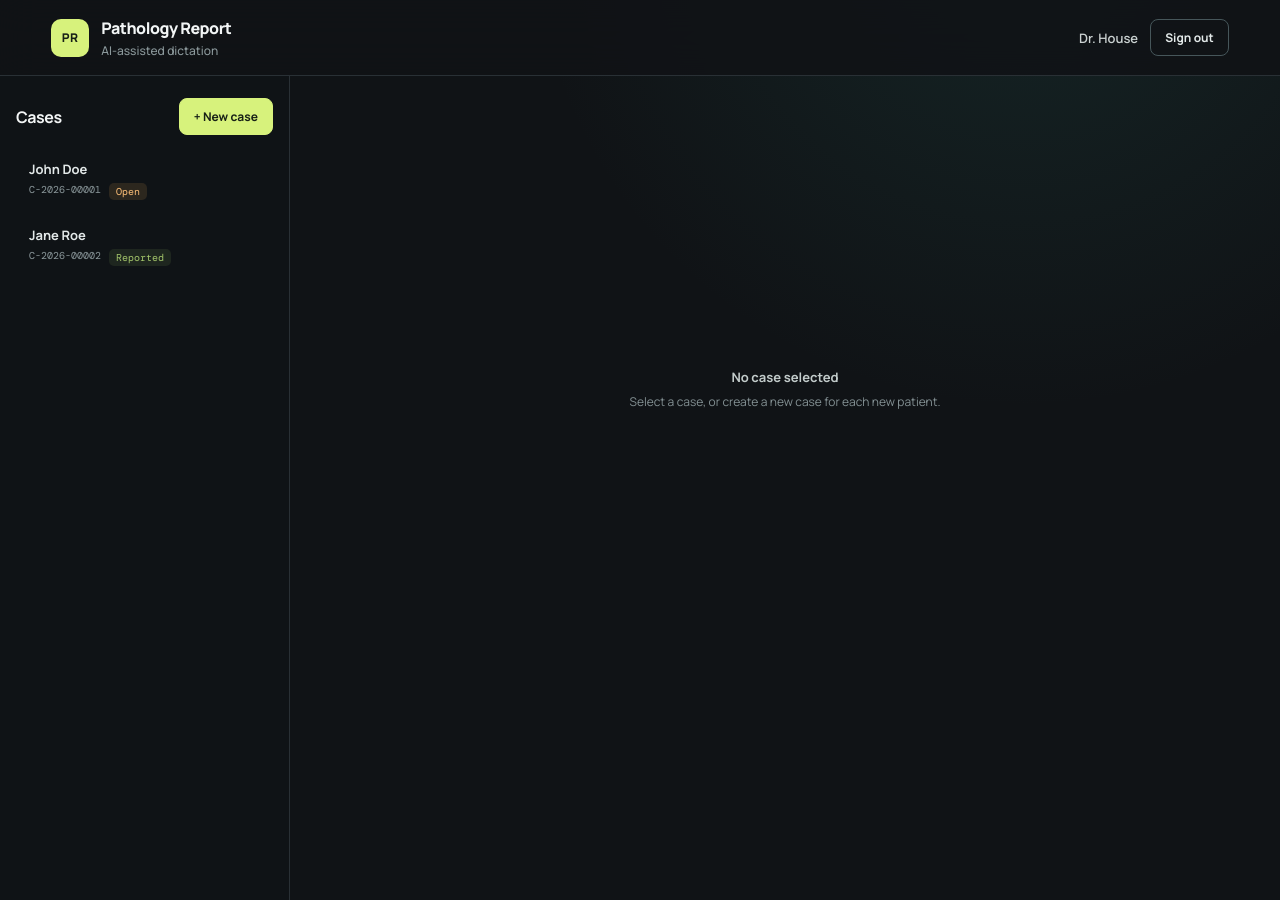
shows a failed line with a Retry button that asks the server to re-run it
The image size is (1280, 900).
Expected: the text "Dr. House" is shown, 1079,28 -> 1138,46
Click the button "John Doe C-2026-00001 Open" at (144, 180), box 16,149 -> 273,211
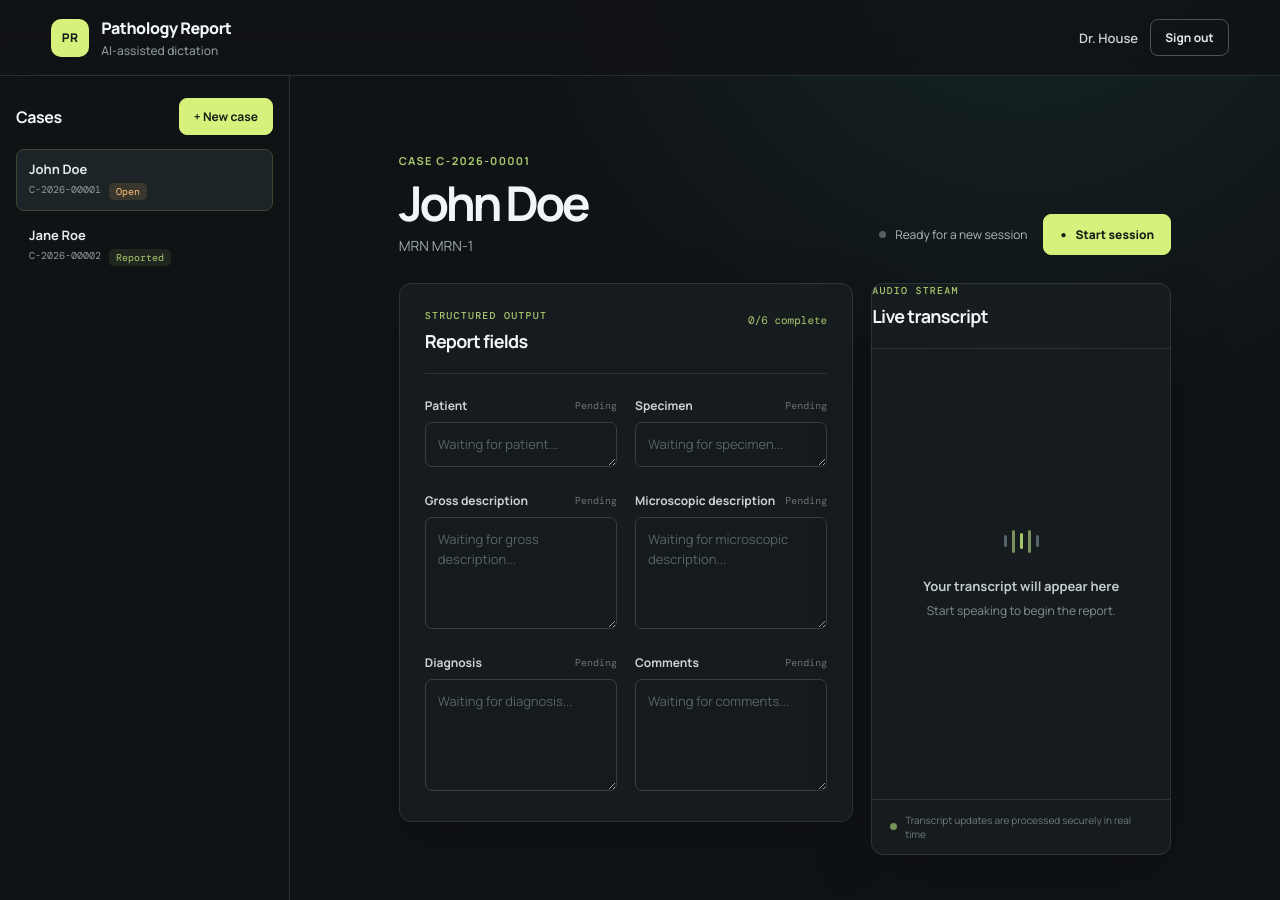
Expected: the heading "John Doe" is shown, 399,179 -> 587,226
Click the button "● Start session" at (1107, 234), box 1043,214 -> 1171,255
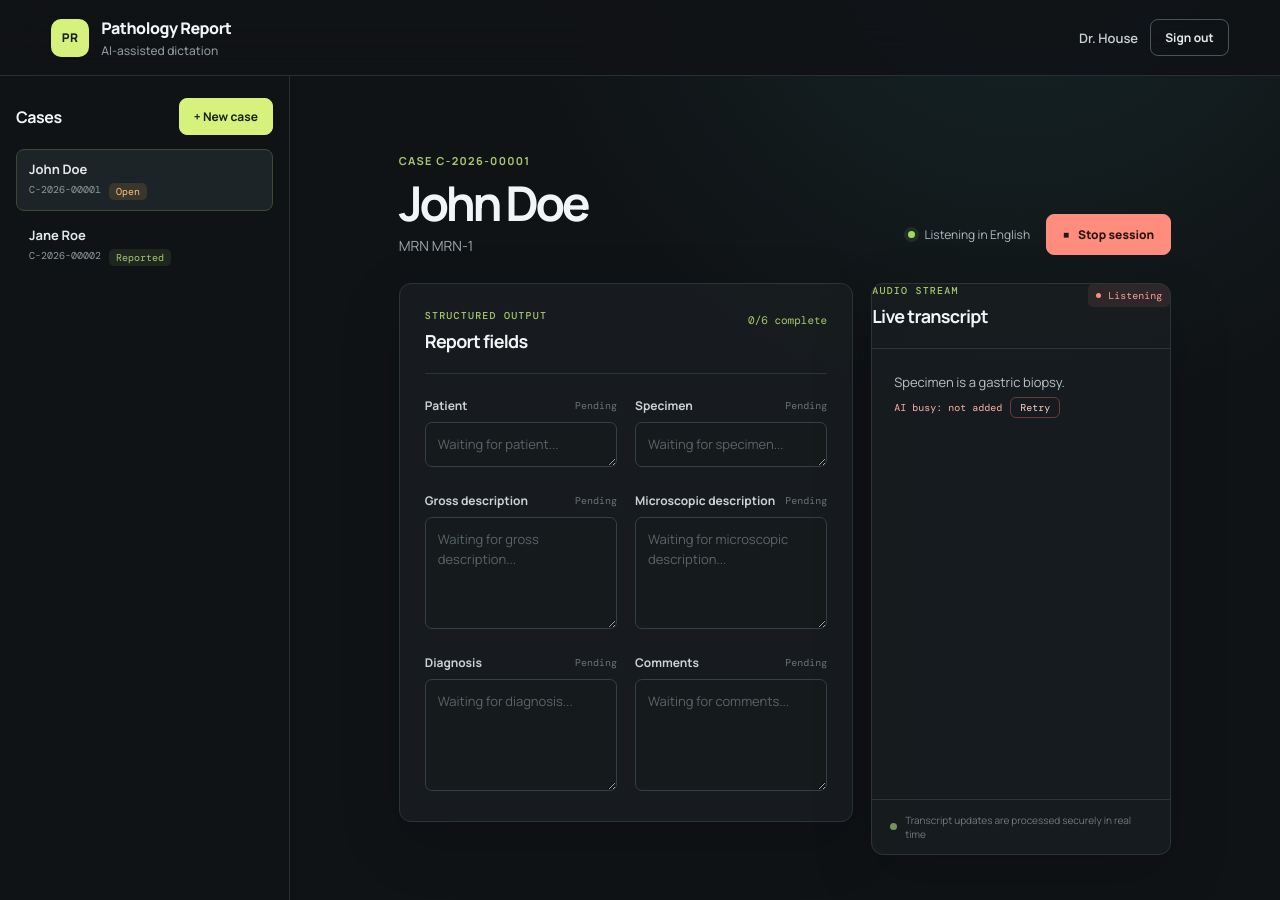
Expected: the text "AI busy: not added" is shown, 894,401 -> 1002,414
Click the button with aria-label "Retry: Specimen is a gastric biopsy." at (1035, 407), box 1010,397 -> 1060,418
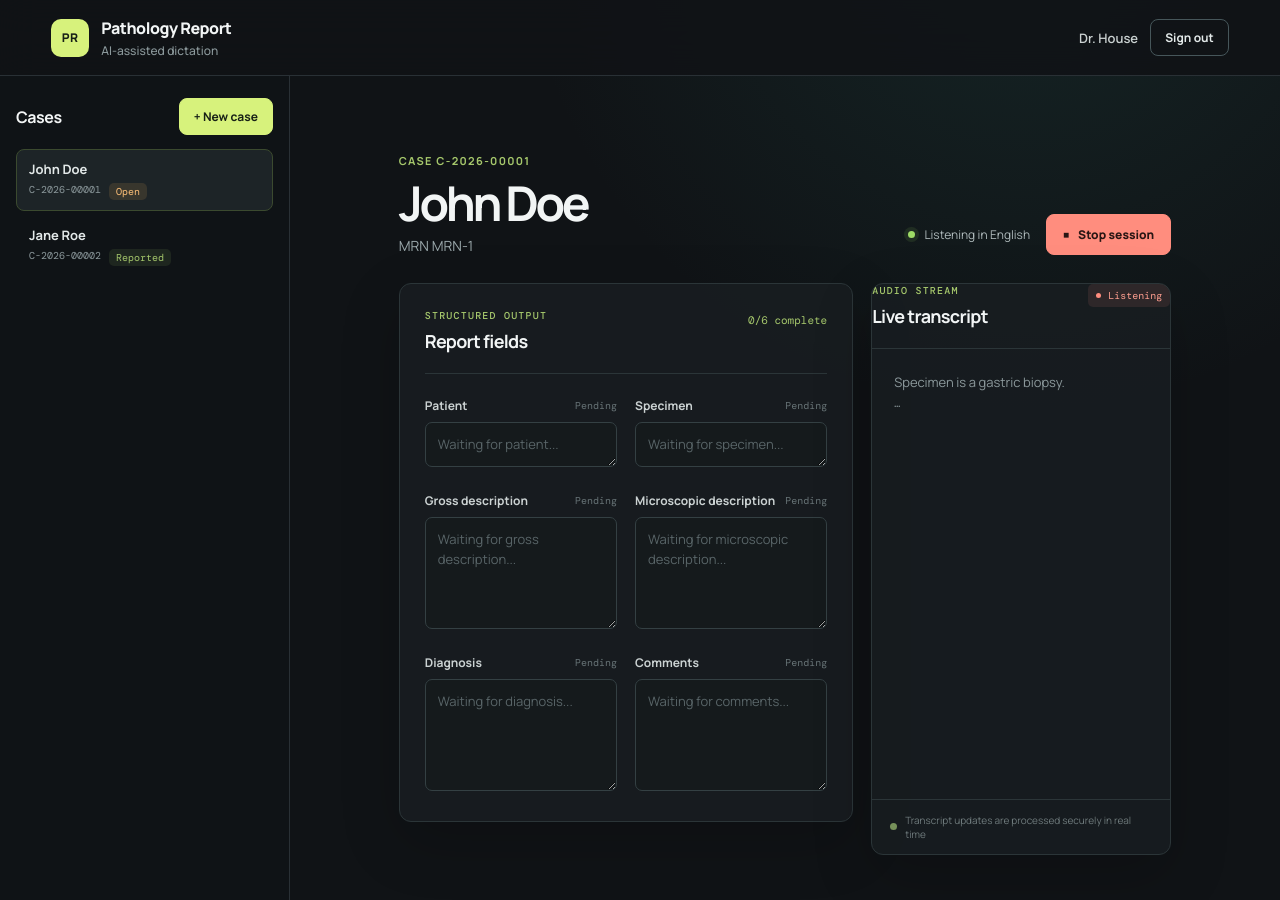
Expected: the text named "Being processed" is shown, 894,397 -> 900,410
